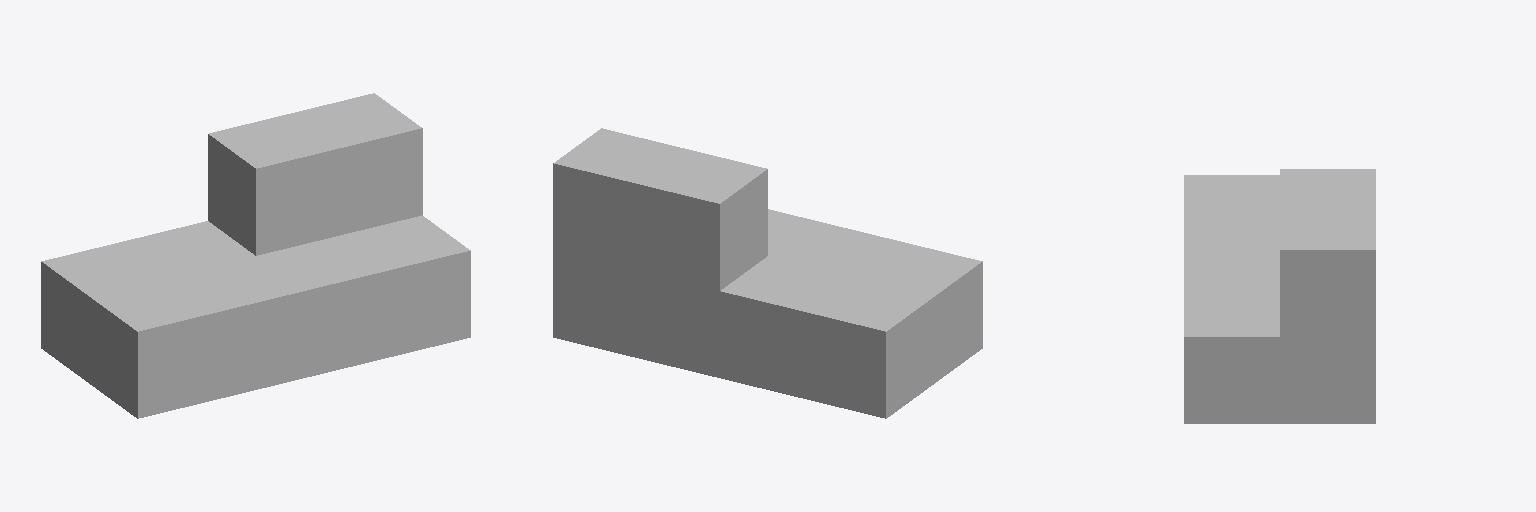
File: bangun.obj
The picture shows the model from 3 angles: view 1: azimuth 30°, elevation 25°; view 2: azimuth 150°, elevation 25°; view 3: azimuth 270°, elevation 25°; orthographic projection.
Parts seen in each view (by area): view 1: Cube.009_Cube.022; view 2: Cube.009_Cube.022; view 3: Cube.009_Cube.022.
Boxes of the visible parts, <box> form: Cube.009_Cube.022: <box>41,93,470,418</box>; Cube.009_Cube.022: <box>553,128,982,418</box>; Cube.009_Cube.022: <box>1184,169,1375,423</box>.
Bounding box in the file's own units: 4 × 2 × 2.